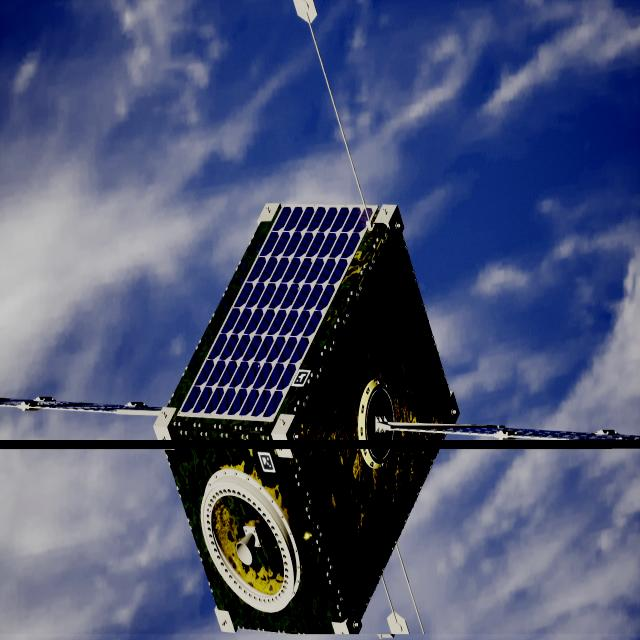medium_debris: (147, 205, 640, 637)
